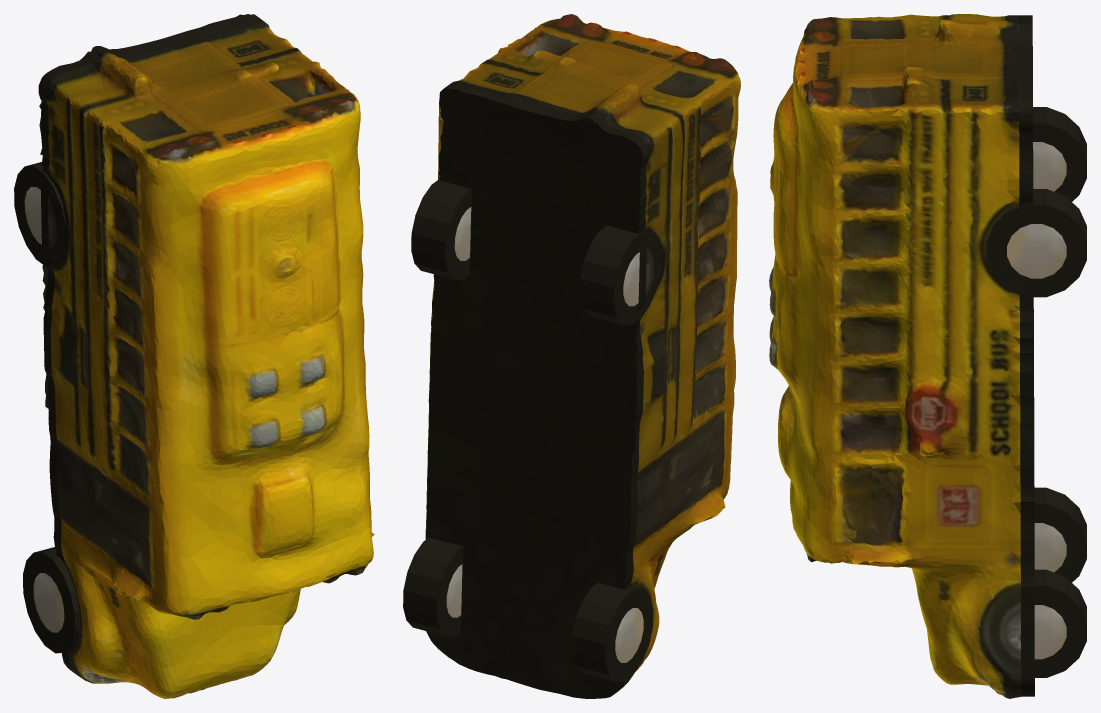
3 views of the same model, side by side, from view 1: azimuth 30°, elevation 25°; view 2: azimuth 150°, elevation 25°; view 3: azimuth 270°, elevation 25° (orthographic). The views are drawn at different scales.
Parts seen in each view (by area): view 1: bus; view 2: bus; view 3: bus.
Boxes of the visible parts, <box> form: bus: <box>14,14,374,698</box>; bus: <box>403,14,740,698</box>; bus: <box>769,14,1086,698</box>.
Bounding box in the file's own units: 0.0806 × 0.1992 × 0.0933.
Materials: 1 (1 with a texture image).
